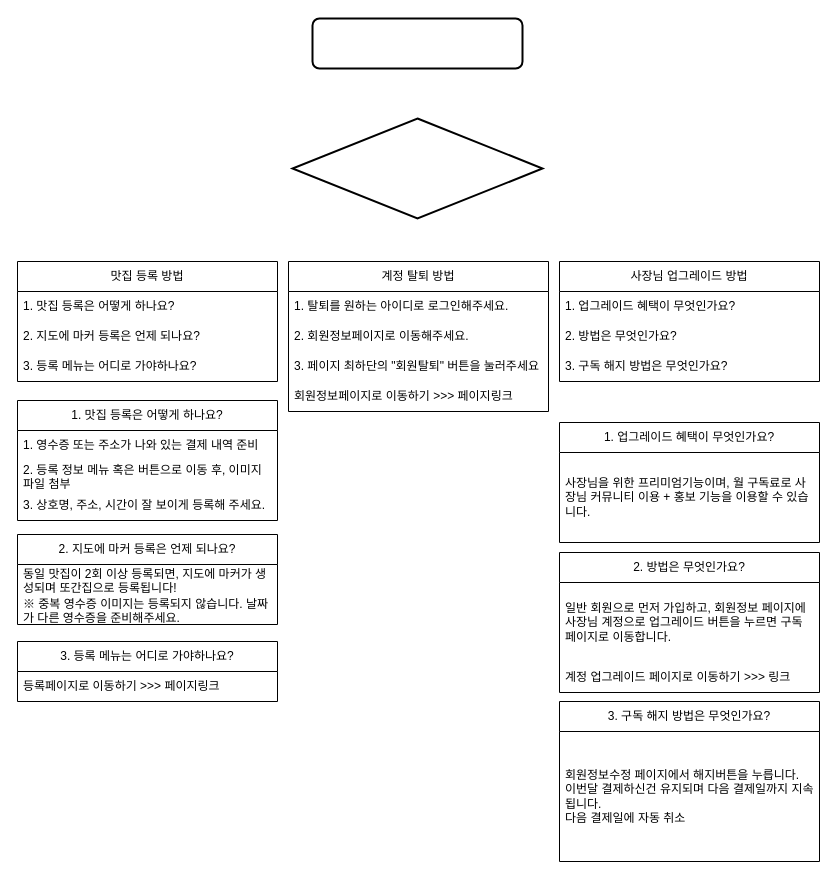
The diagram is 837 pixels wide and 879 high, and some of its shapes have lost their labels. Each missing label, with the centre of its shape:
"1. 맛집 등록 방법 2. 계정 탈퇴 방법 3. 사장님 업그레이드 방법" belongs at (x=417, y=168).
"맛.ZIP Chatbot 입니다." belongs at (x=417, y=43).
